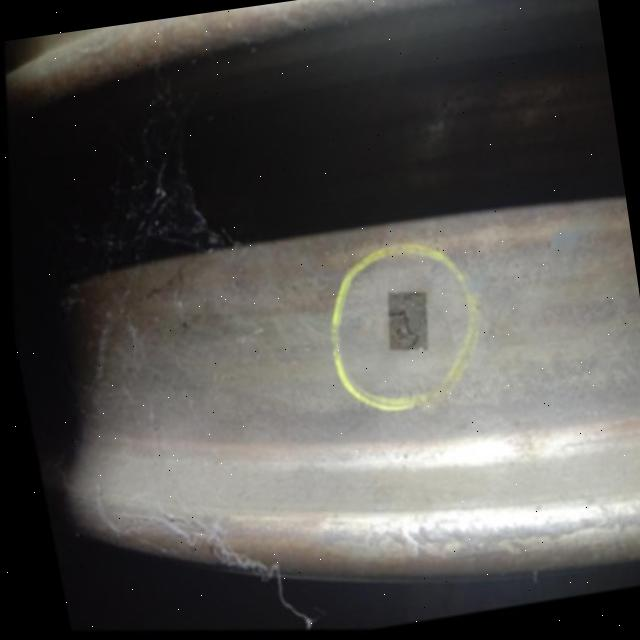Peeling: (377, 289, 435, 359)
